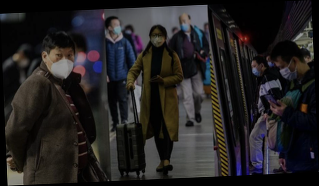with_mask: (47, 48, 76, 80), (275, 62, 297, 81), (149, 29, 165, 47), (178, 17, 190, 30), (250, 62, 260, 76), (112, 21, 121, 35), (265, 57, 275, 68)
